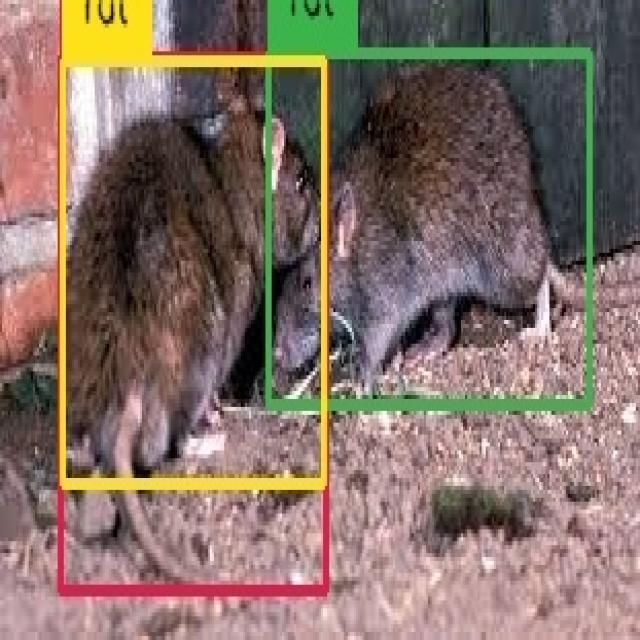rat: (62, 59, 325, 593), (268, 51, 590, 403), (62, 59, 325, 486)
